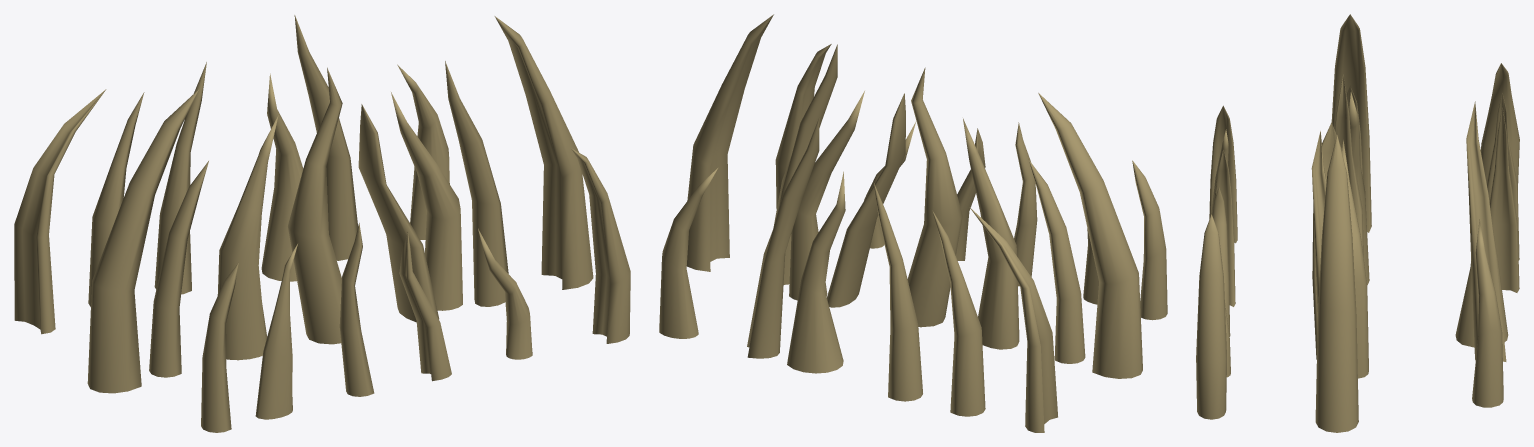
File: SM_StalagBonesConverge.fbx
3 renders of one model, left to right at view 1: azimuth 30°, elevation 25°; view 2: azimuth 150°, elevation 25°; view 3: azimuth 270°, elevation 25°, orthographic. The views are drawn at different scales.
Parts seen in each view (by area): view 1: StalagBoneConverge; view 2: StalagBoneConverge; view 3: StalagBoneConverge.
Boxes of the visible parts, bbox=[...] form: StalagBoneConverge: bbox=[14, 15, 630, 432]; StalagBoneConverge: bbox=[659, 14, 1167, 432]; StalagBoneConverge: bbox=[1196, 14, 1519, 432].
Bounding box in the file's own units: 662 × 363 × 413.
